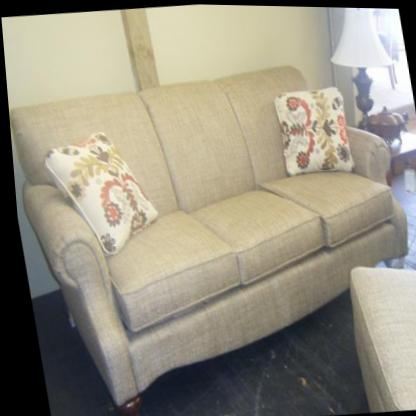Sofa: (3, 48, 416, 416)
